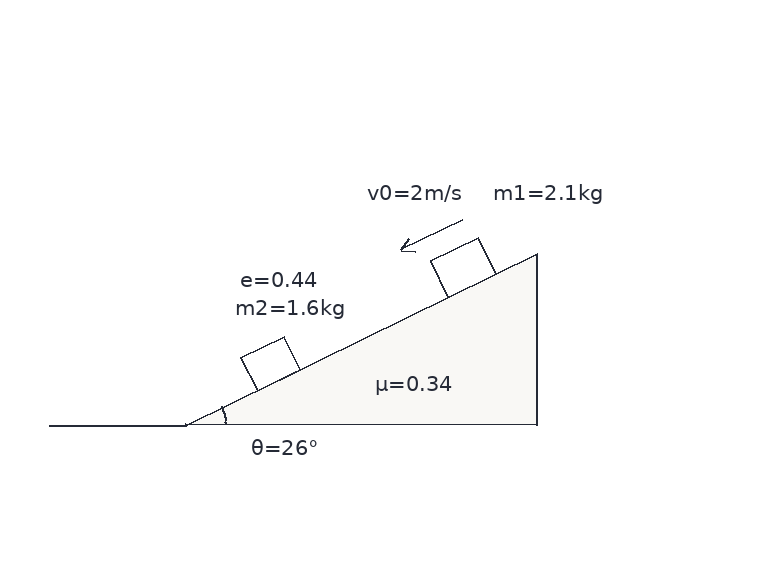block: (428, 236, 497, 298), (239, 334, 302, 392)
ramp: (184, 251, 539, 426)
